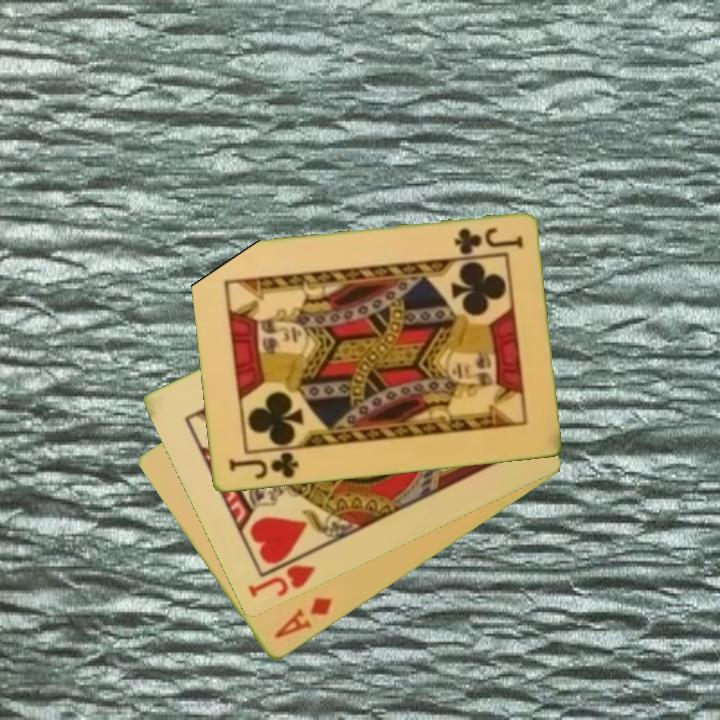Ad: (270, 594, 335, 642)
Jc: (225, 448, 302, 483), (450, 225, 525, 257)
Jh: (243, 548, 318, 601)
